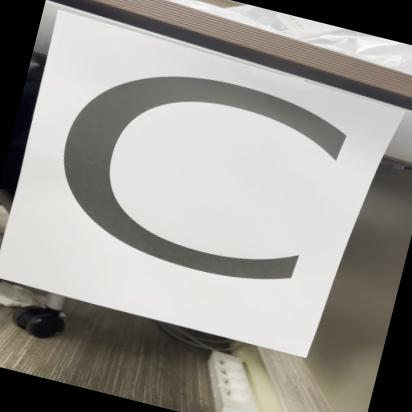seat: (0, 3, 375, 354)
